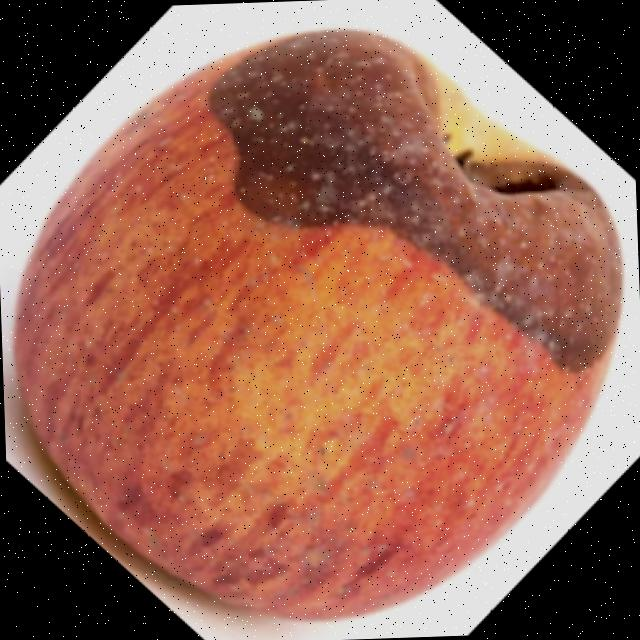Rotten: (1, 10, 640, 638)
